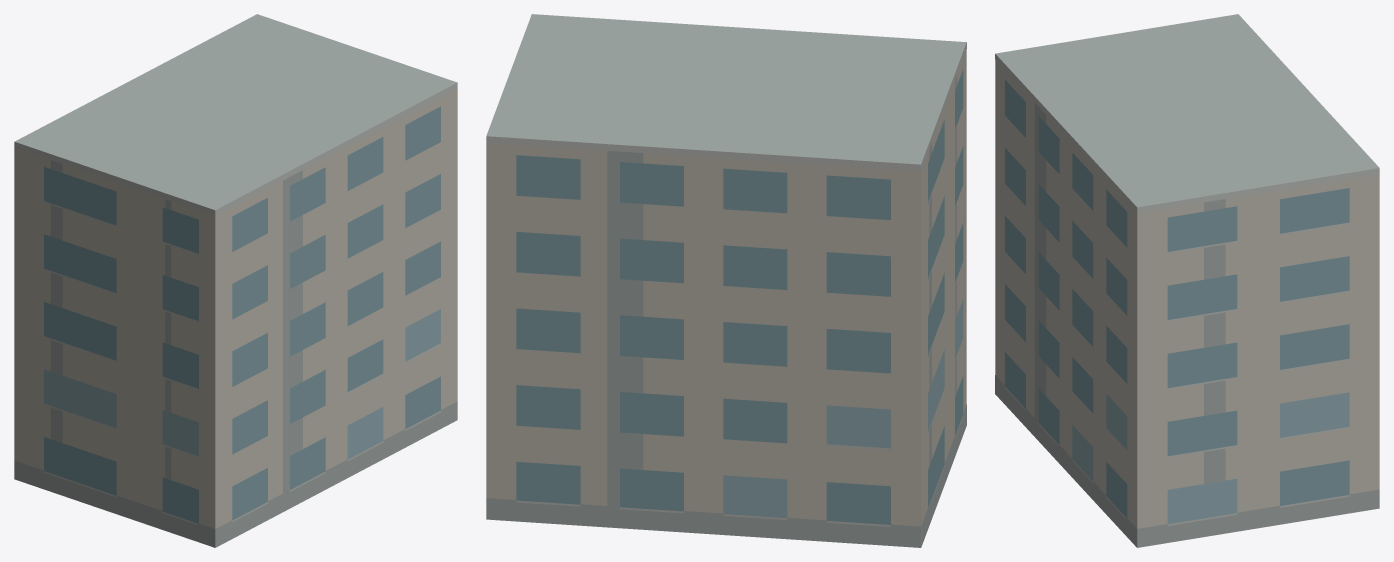
File: survey-upis-33005701.glb
3 views of the same model, side by side, from view 1: azimuth 30°, elevation 25°; view 2: azimuth 150°, elevation 25°; view 3: azimuth 270°, elevation 25° (orthographic). The views are drawn at different scales.
Visible parts, largest first — view 1: survey-upis-33005701.tmp; view 2: survey-upis-33005701.tmp; view 3: survey-upis-33005701.tmp.
Boxes of the visible parts, x1,y1,x2,y2 form: survey-upis-33005701.tmp: (14,14,457,547); survey-upis-33005701.tmp: (486,14,966,547); survey-upis-33005701.tmp: (995,14,1379,547).
Bounding box in the file's own units: 16.94 × 13.9 × 14.24.
